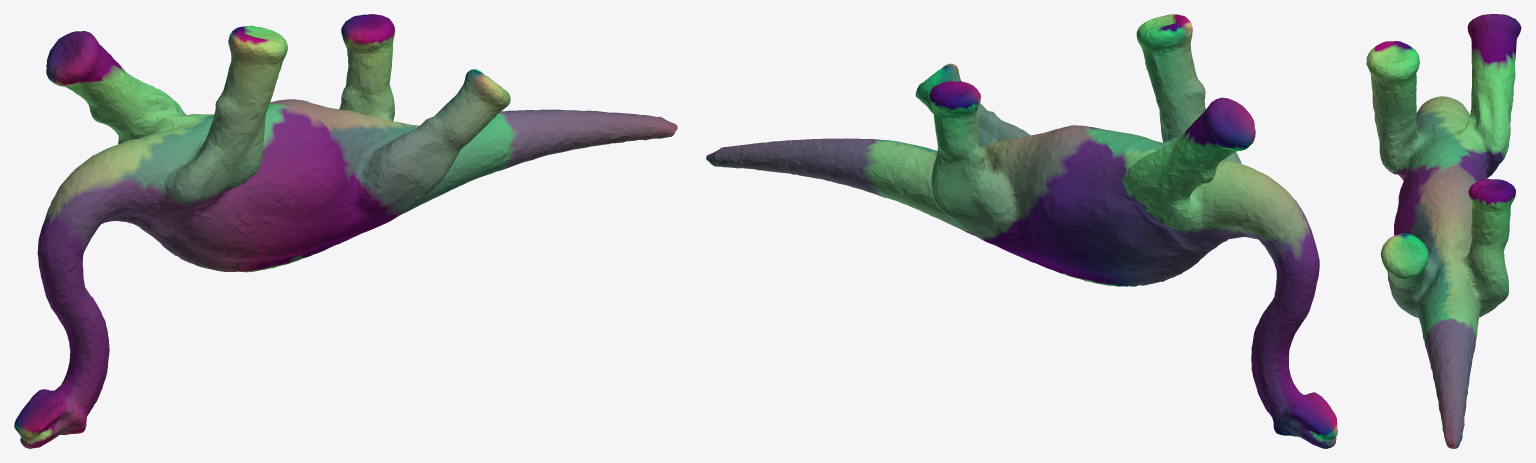
Rendered from dinosaur-19.off.obj.
3 renders of one model, left to right at view 1: azimuth 30°, elevation 25°; view 2: azimuth 150°, elevation 25°; view 3: azimuth 270°, elevation 25°, orthographic. The views are drawn at different scales.
Bounding box in the file's own units: 1.44 × 0.8077 × 0.3326.
